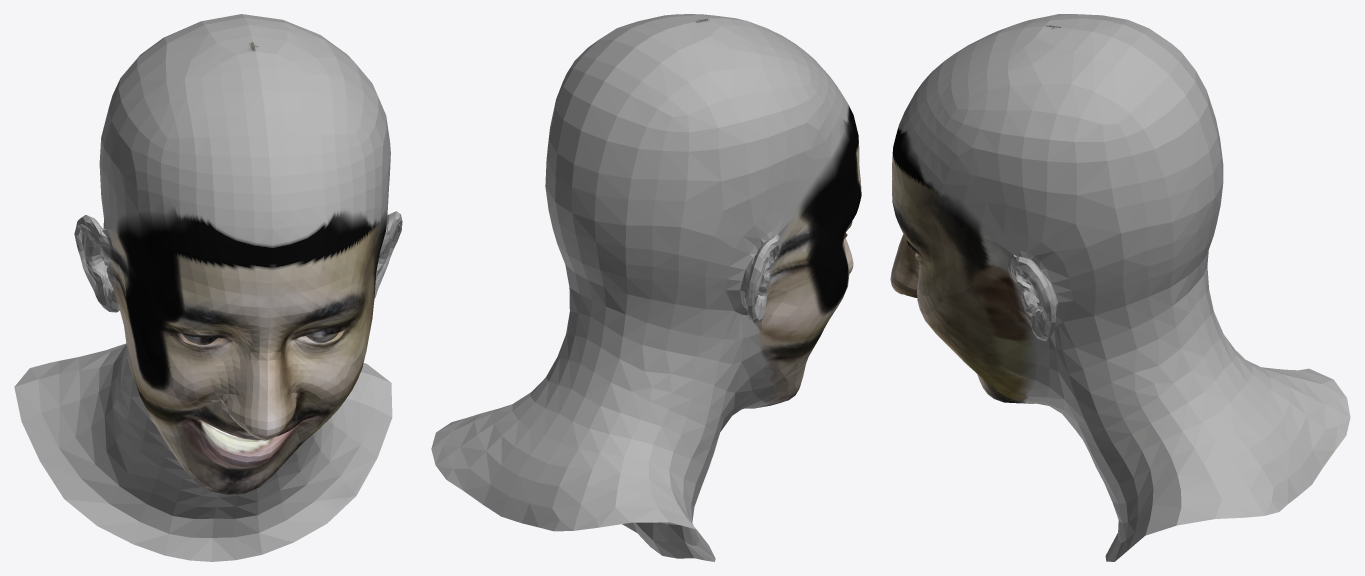
File: ezgif-frame-006.obj
The picture shows the model from 3 angles, left to right: view 1: azimuth 30°, elevation 25°; view 2: azimuth 150°, elevation 25°; view 3: azimuth 270°, elevation 25°; orthographic projection. The views are drawn at different scales.
Bounding box in the file's own units: 0.2072 × 0.3272 × 0.2661.
Materials: 1 (1 with a texture image).
